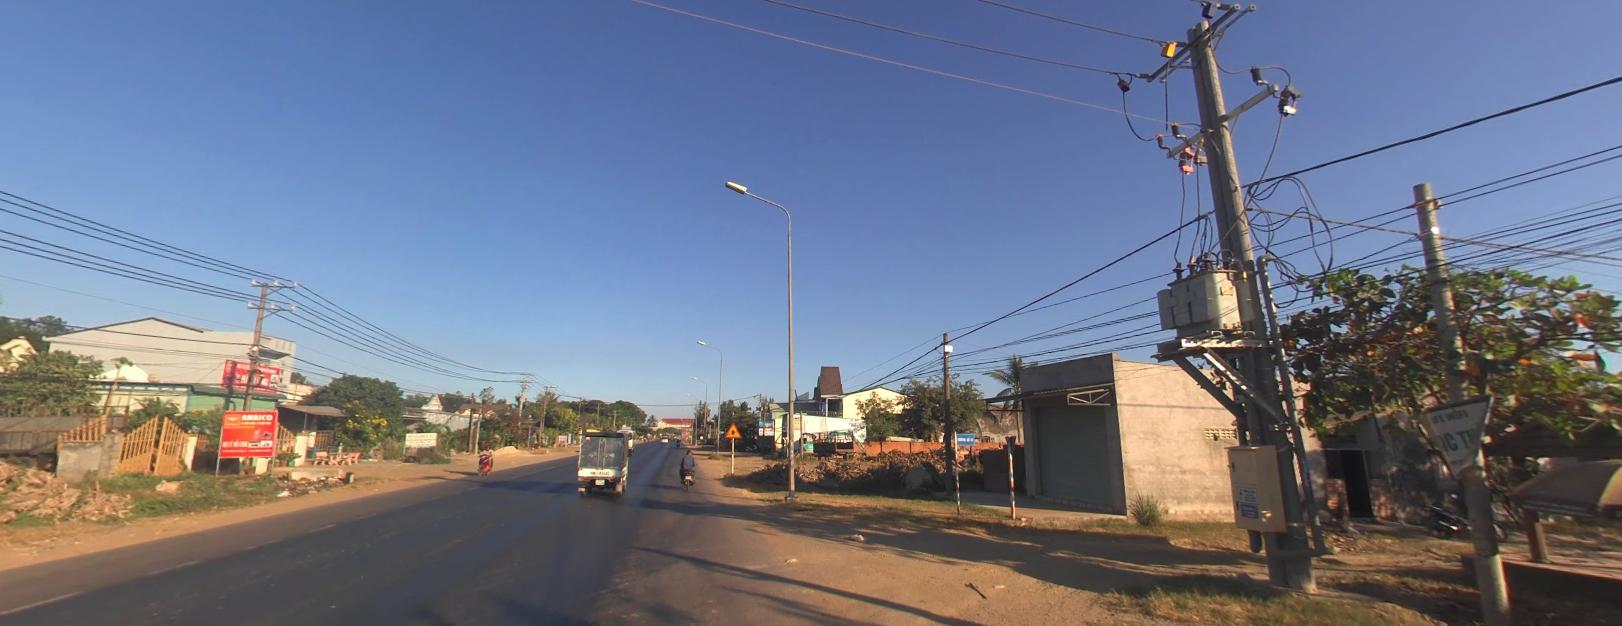Nguy hiem: (723, 419, 742, 436), (723, 420, 741, 436)
